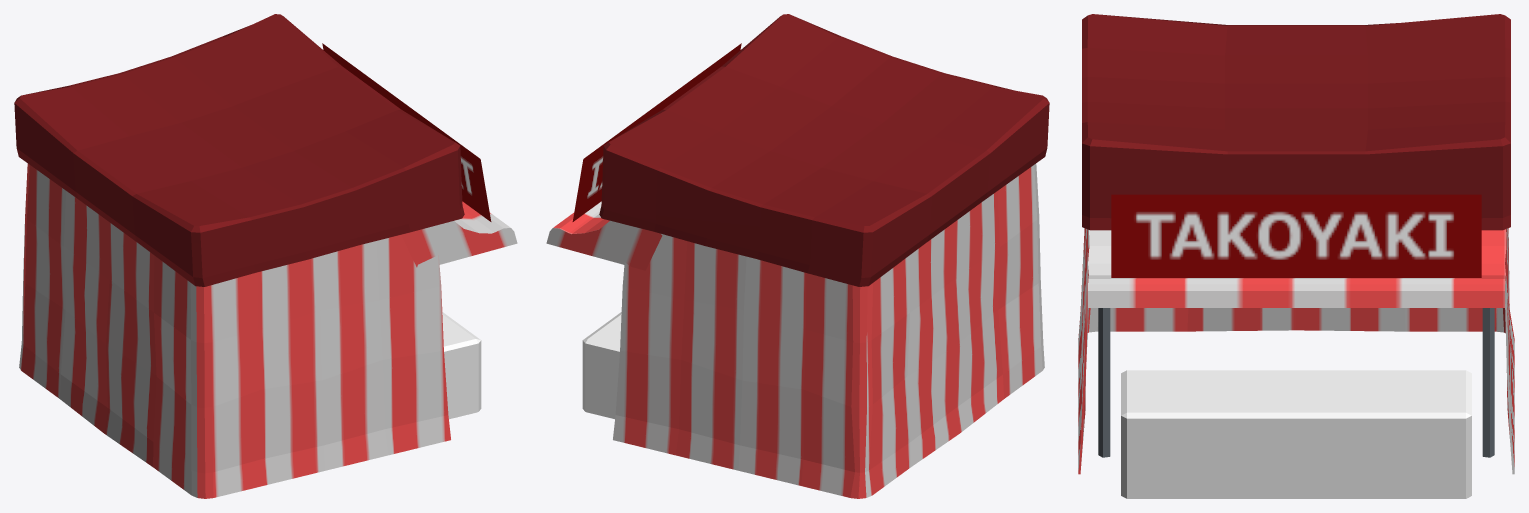
File: rowyataiyakitori2.fbx
3 views of the same model, side by side, from view 1: azimuth 30°, elevation 25°; view 2: azimuth 150°, elevation 25°; view 3: azimuth 270°, elevation 25° (orthographic). The views are drawn at different scales.
Visible parts, largest first — view 1: 立方体, Cube, Cube.001, 立方体.001, 平面; view 2: 立方体, Cube, Cube.001, 立方体.001, 平面; view 3: Cube, 立方体.001, 平面, Cube.001, 立方体, 円柱.
Part boxes in pixels (x1,y1,x2,y2): 立方体: [19, 163, 450, 498]; Cube: [14, 14, 464, 286]; Cube.001: [401, 201, 517, 267]; 立方体.001: [442, 312, 481, 419]; 平面: [322, 43, 491, 221]; 立方体: [613, 163, 1044, 498]; Cube: [599, 14, 1049, 286]; Cube.001: [546, 201, 662, 270]; 立方体.001: [582, 312, 621, 419]; 平面: [572, 43, 741, 221]; Cube: [1082, 14, 1510, 230]; 立方体.001: [1121, 370, 1471, 498]; 平面: [1111, 194, 1481, 277]; Cube.001: [1088, 229, 1506, 307]; 立方体: [1078, 228, 1514, 474]; 円柱: [1098, 308, 1494, 457].
Bounding box in the file's own units: 133 × 114 × 132.
